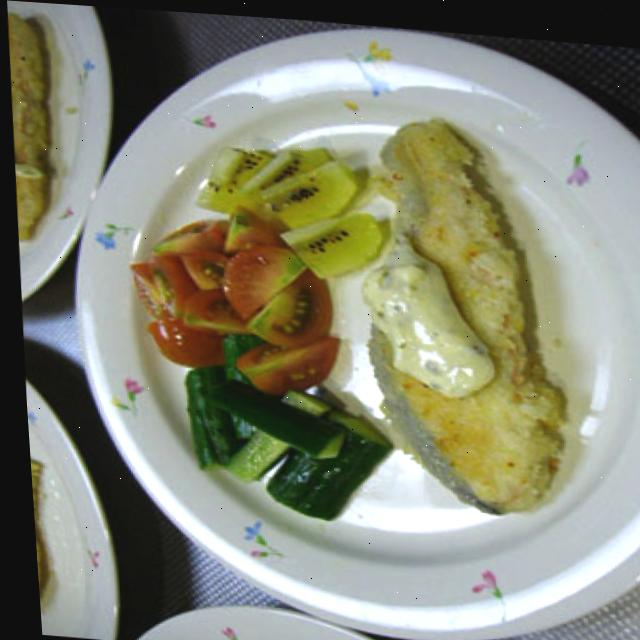熟制海鲜: (161, 98, 566, 544)
